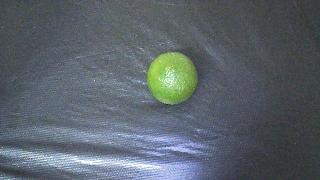LOCAL: (147, 52, 197, 105)
